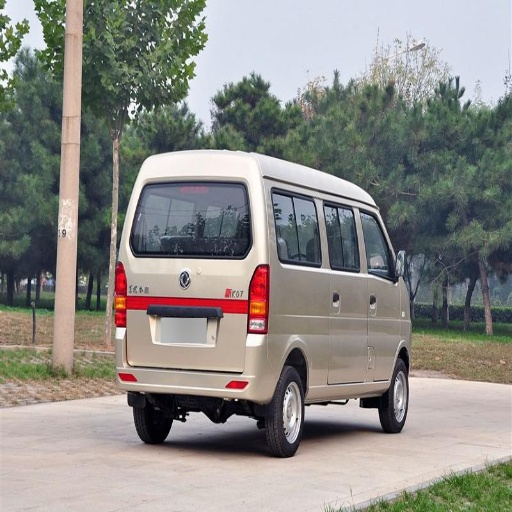back_bumper: (114, 328, 230, 392)
back_right_door: (264, 182, 363, 367)
trunk: (116, 260, 321, 402), (358, 285, 410, 366)
